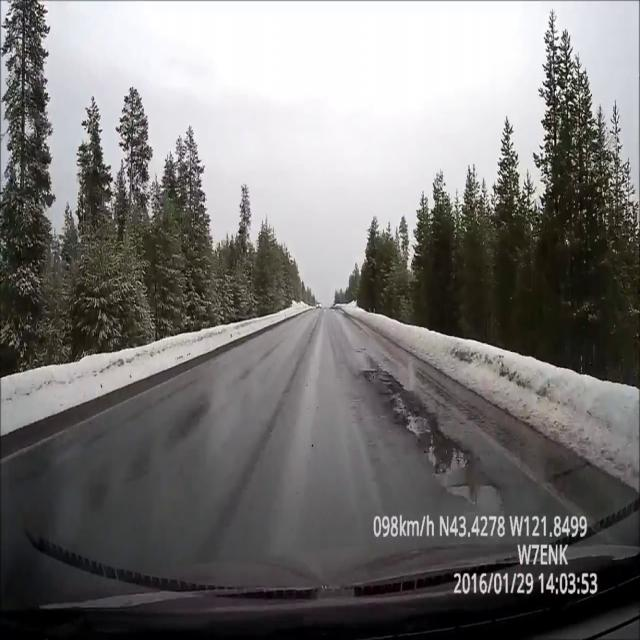Pothole: (359, 365, 448, 438), (424, 441, 507, 510)
